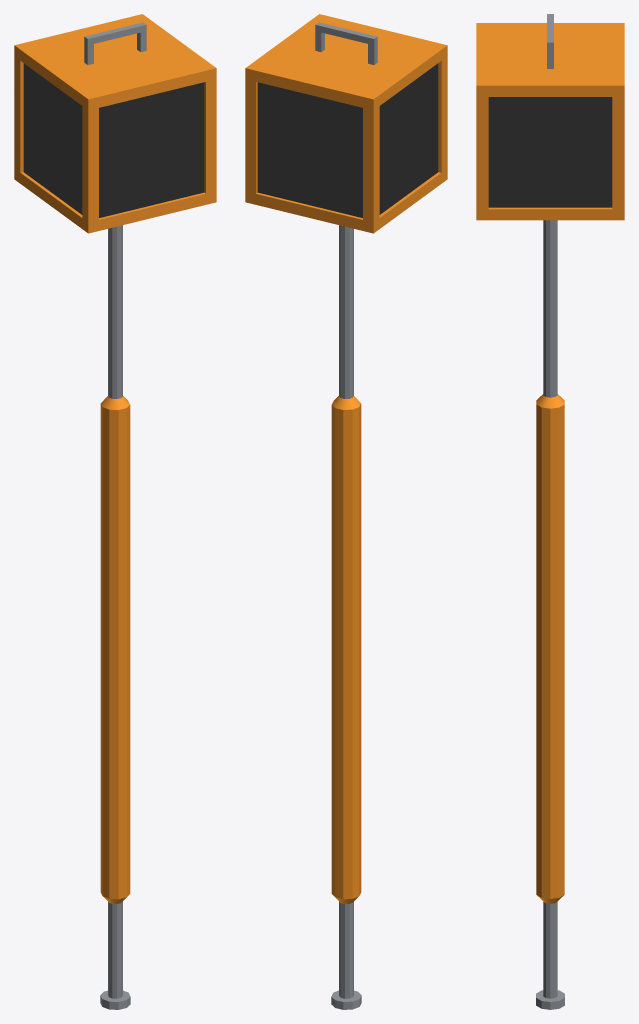
Rendered from downbox.glb.
The picture shows the model from 3 angles, left to right: view 1: azimuth 30°, elevation 25°; view 2: azimuth 150°, elevation 25°; view 3: azimuth 270°, elevation 25°; orthographic projection.
Visible parts, largest first — view 1: downbox; view 2: downbox; view 3: downbox.
Boxes of the visible parts, bbox=[...] form: downbox: bbox=[14, 14, 216, 1009]; downbox: bbox=[245, 14, 447, 1009]; downbox: bbox=[476, 14, 624, 1009].
Size of the model in its own units: 0.34 by 2.47 by 0.34.
